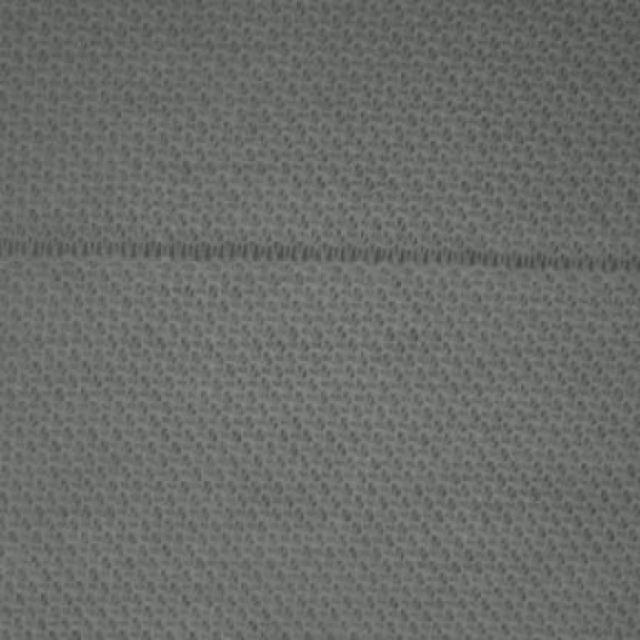Line: (2, 234, 636, 273)
